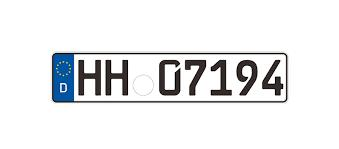0: (155, 58, 183, 97)
1: (207, 58, 235, 98)
4: (261, 58, 288, 98)
7: (184, 58, 209, 97)
9: (234, 59, 260, 97)
H: (75, 58, 104, 97), (104, 59, 132, 96)
